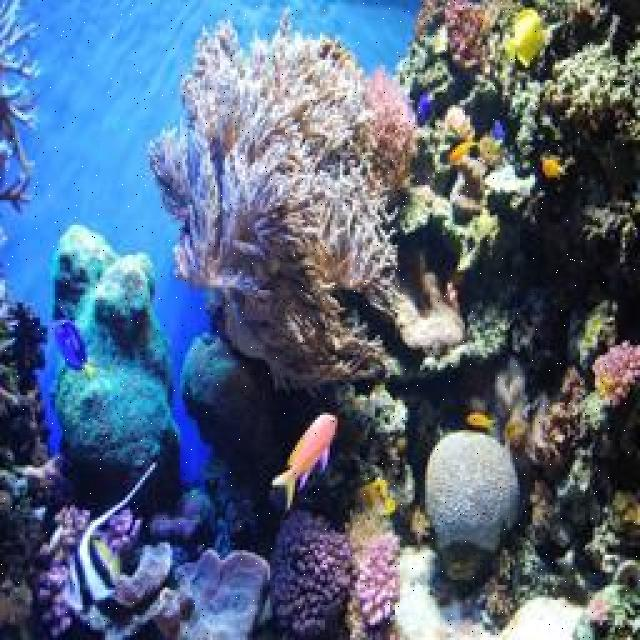fish: (60, 463, 158, 615), (273, 412, 338, 511), (49, 319, 102, 378), (504, 10, 547, 66), (358, 476, 396, 515), (322, 37, 354, 65), (418, 91, 435, 129), (448, 141, 478, 160), (467, 413, 500, 430), (543, 156, 564, 182)
reefs: (144, 6, 417, 389), (29, 506, 144, 634), (423, 431, 521, 556), (267, 513, 360, 634), (352, 533, 401, 626), (592, 338, 638, 410)
